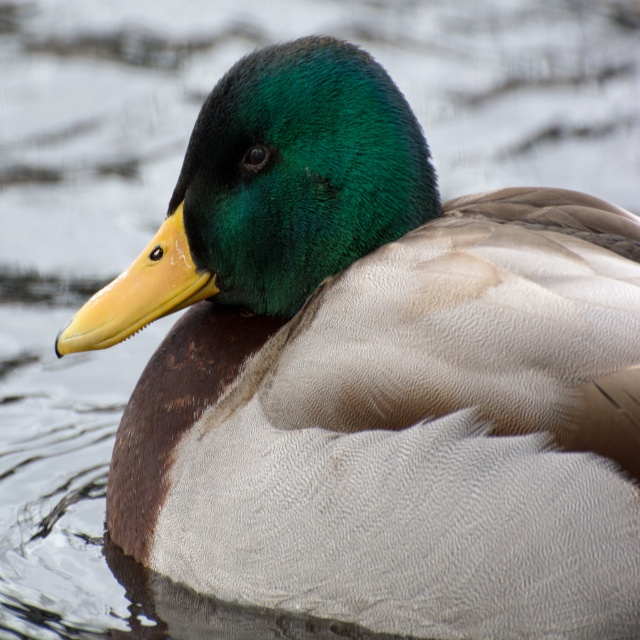Duck: (49, 34, 639, 573)
